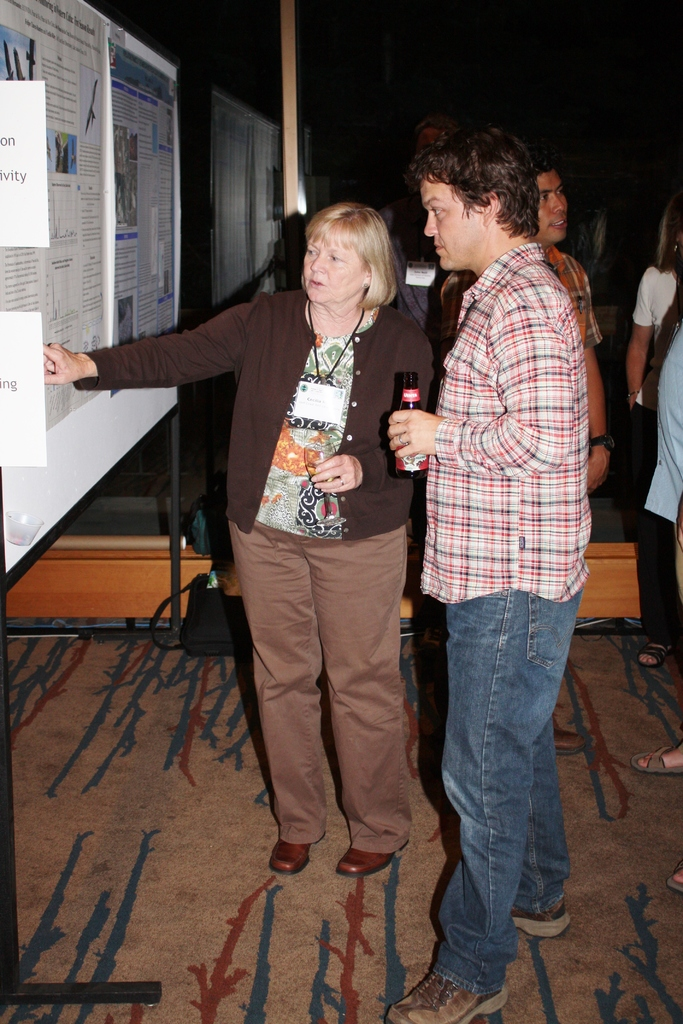Footwear: (385, 968, 516, 1023), (627, 736, 682, 776), (513, 909, 573, 944), (340, 844, 389, 877), (268, 843, 310, 876), (638, 641, 674, 668), (666, 862, 682, 895)
